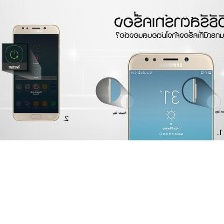phone: (123, 48, 217, 197), (9, 19, 64, 123)
